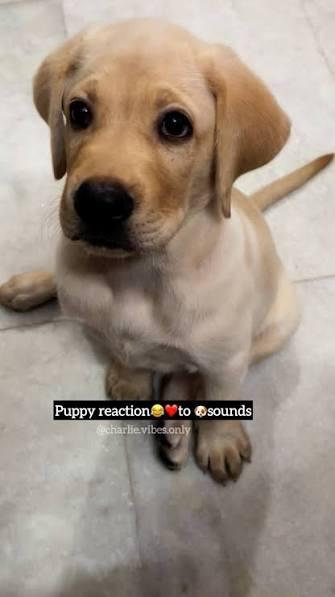puppy-dog: (0, 17, 335, 484)
